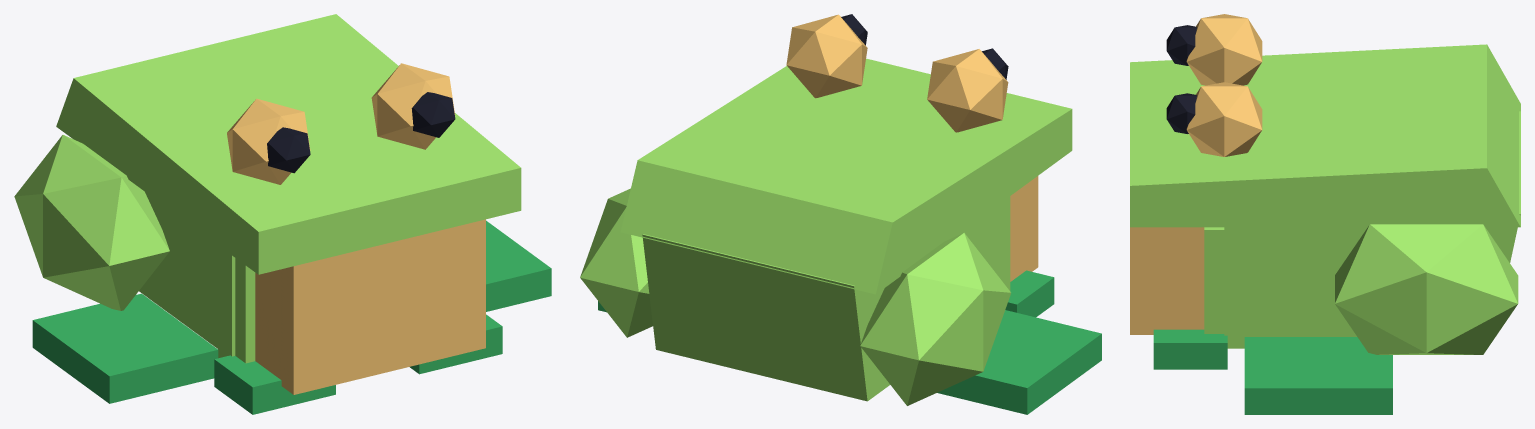
Rendered from frog.glb.
The picture shows the model from 3 angles, left to right: view 1: azimuth 30°, elevation 25°; view 2: azimuth 150°, elevation 25°; view 3: azimuth 270°, elevation 25°; orthographic projection. The views are drawn at different scales.
Visible parts, largest first — view 1: Back, Throat, ThighL, FootL, Lower, FootR, EyeR, EyeL, HandL, ArmL, PupilL, PupilR (+1 smaller); view 2: Back, Lower, ThighL, FootL, ThighR, EyeR, EyeL, Throat, HandL, ArmL; view 3: Back, ThighR, Lower, FootR, Throat, EyeR, EyeL, HandR, ArmR, PupilL, PupilR.
Part boxes in pixels (bbox=[...]): Back: bbox=[56, 14, 521, 274]; Throat: bbox=[255, 219, 485, 394]; ThighL: bbox=[14, 135, 169, 310]; FootL: bbox=[32, 293, 218, 403]; Lower: bbox=[139, 192, 235, 356]; FootR: bbox=[486, 220, 551, 311]; EyeR: bbox=[371, 63, 455, 149]; EyeL: bbox=[227, 98, 310, 184]; HandL: bbox=[214, 355, 335, 414]; ArmL: bbox=[218, 258, 255, 363]; PupilL: bbox=[267, 127, 310, 173]; PupilR: bbox=[411, 92, 455, 137]; Back: bbox=[620, 58, 1072, 294]; Lower: bbox=[642, 201, 1003, 401]; ThighL: bbox=[860, 233, 1010, 405]; FootL: bbox=[937, 310, 1101, 414]; ThighR: bbox=[580, 188, 652, 337]; EyeR: bbox=[786, 14, 867, 98]; EyeL: bbox=[927, 49, 1008, 132]; Throat: bbox=[1010, 176, 1038, 281]; HandL: bbox=[1005, 270, 1054, 317]; ArmL: bbox=[1003, 196, 1010, 290]; Back: bbox=[1130, 44, 1520, 227]; ThighR: bbox=[1335, 224, 1518, 354]; Lower: bbox=[1224, 111, 1520, 338]; FootR: bbox=[1244, 337, 1392, 414]; Throat: bbox=[1130, 227, 1204, 334]; EyeR: bbox=[1186, 82, 1262, 156]; EyeL: bbox=[1186, 14, 1262, 85]; HandR: bbox=[1153, 329, 1227, 369]; ArmR: bbox=[1204, 227, 1244, 348]; PupilL: bbox=[1166, 25, 1196, 65]; PupilR: bbox=[1166, 93, 1196, 133].
Bounding box in the file's own units: 0.7314 × 0.4235 × 0.58.
